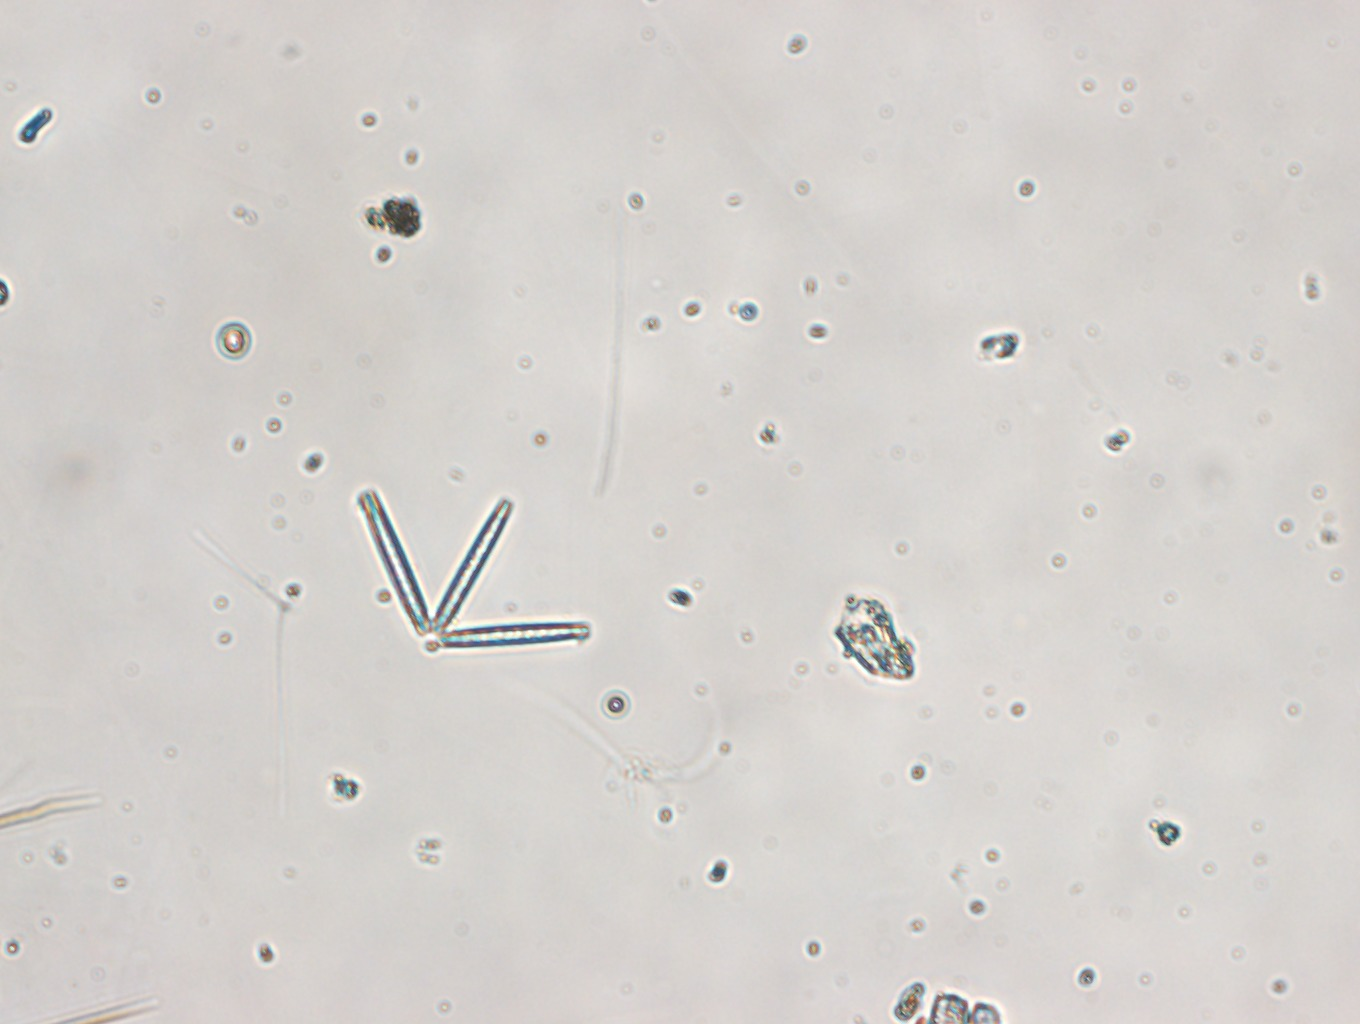thalassionema nitzschioides: (358, 484, 591, 648)
